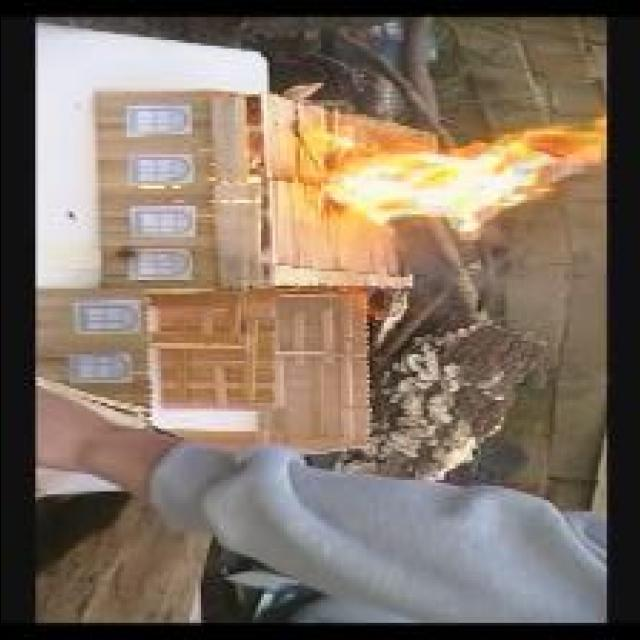Fire: (302, 115, 604, 232)
